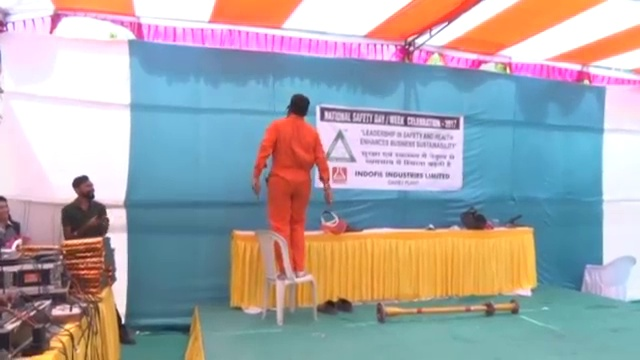helmet_off: (286, 92, 311, 119), (71, 175, 96, 201), (1, 195, 15, 222)
person: (251, 93, 330, 278), (58, 175, 112, 237)
